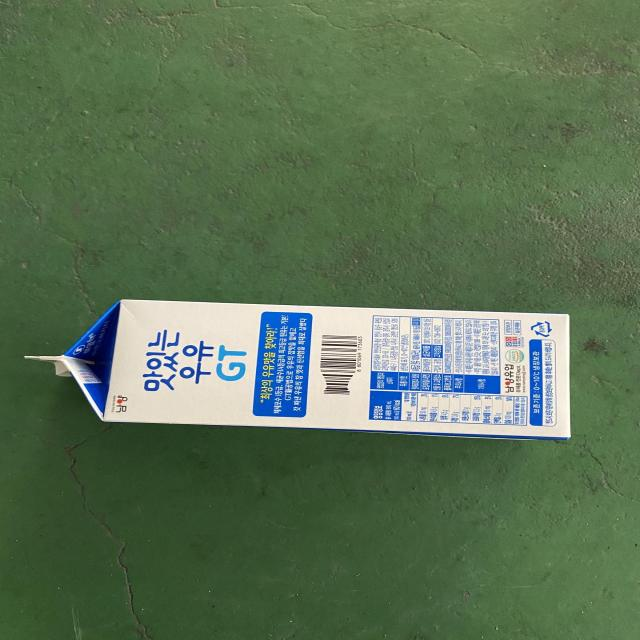paperpack: (29, 300, 571, 440)
